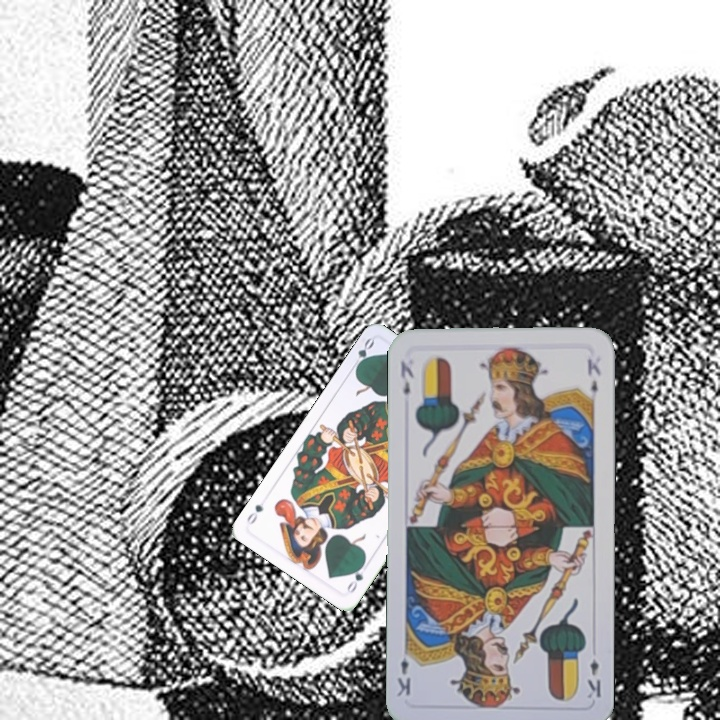EK: (584, 655, 604, 701), (396, 357, 416, 398)
GO: (348, 334, 377, 373), (343, 558, 368, 596)
